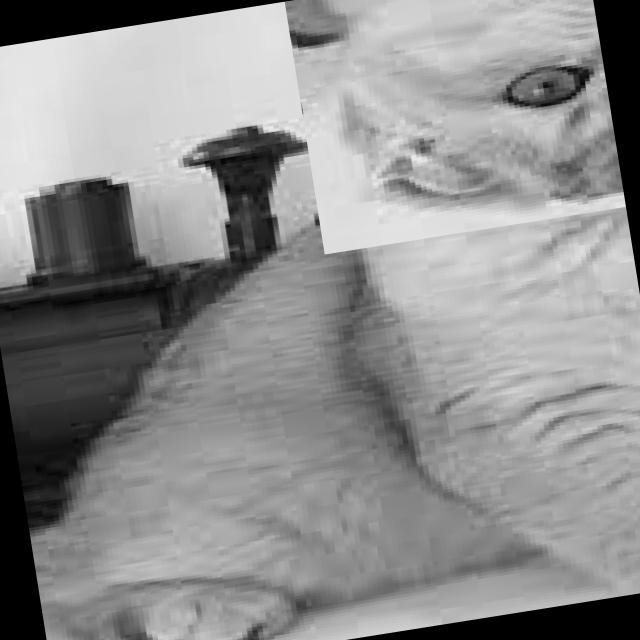scootish: (285, 0, 626, 254)
